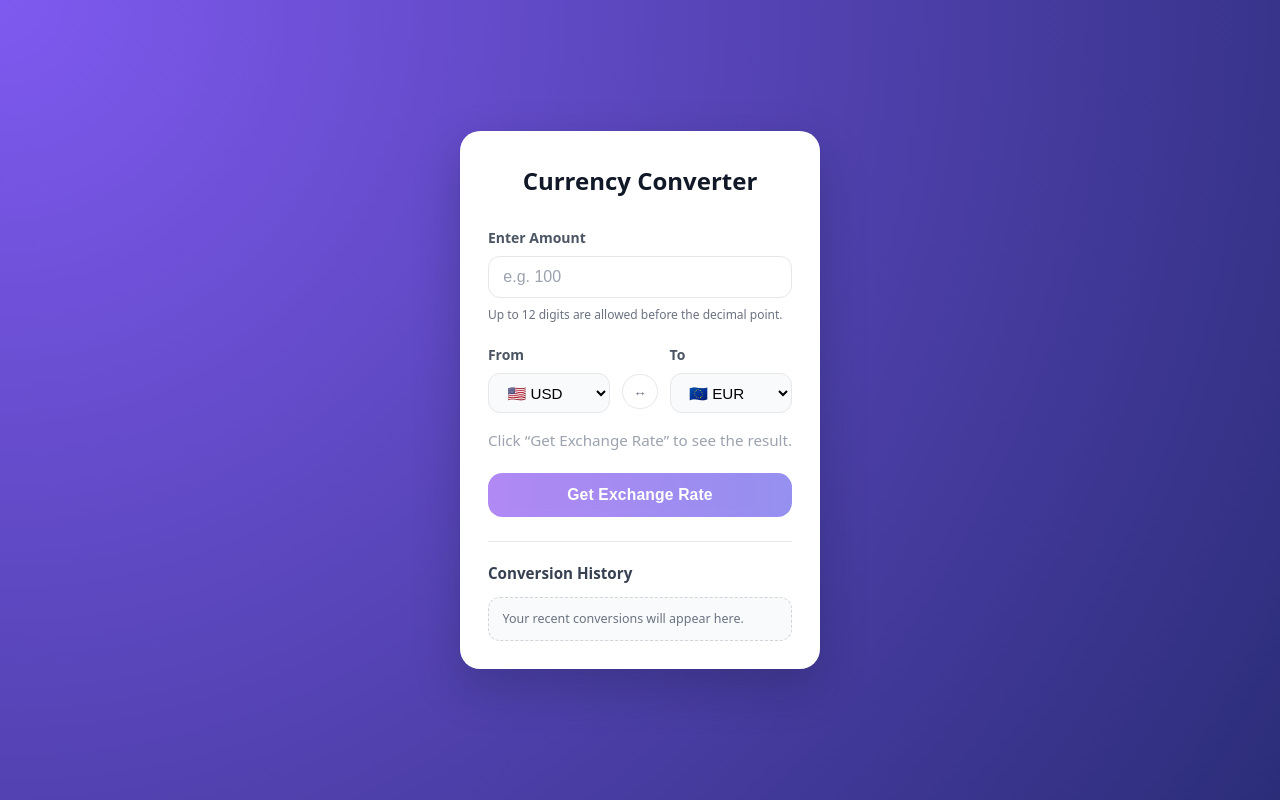
Test case: CurrencyConverter › adds successful conversions to history
Type "25" into the number field labelled "Enter Amount". click: (640, 277)
box: [488,256,792,298]
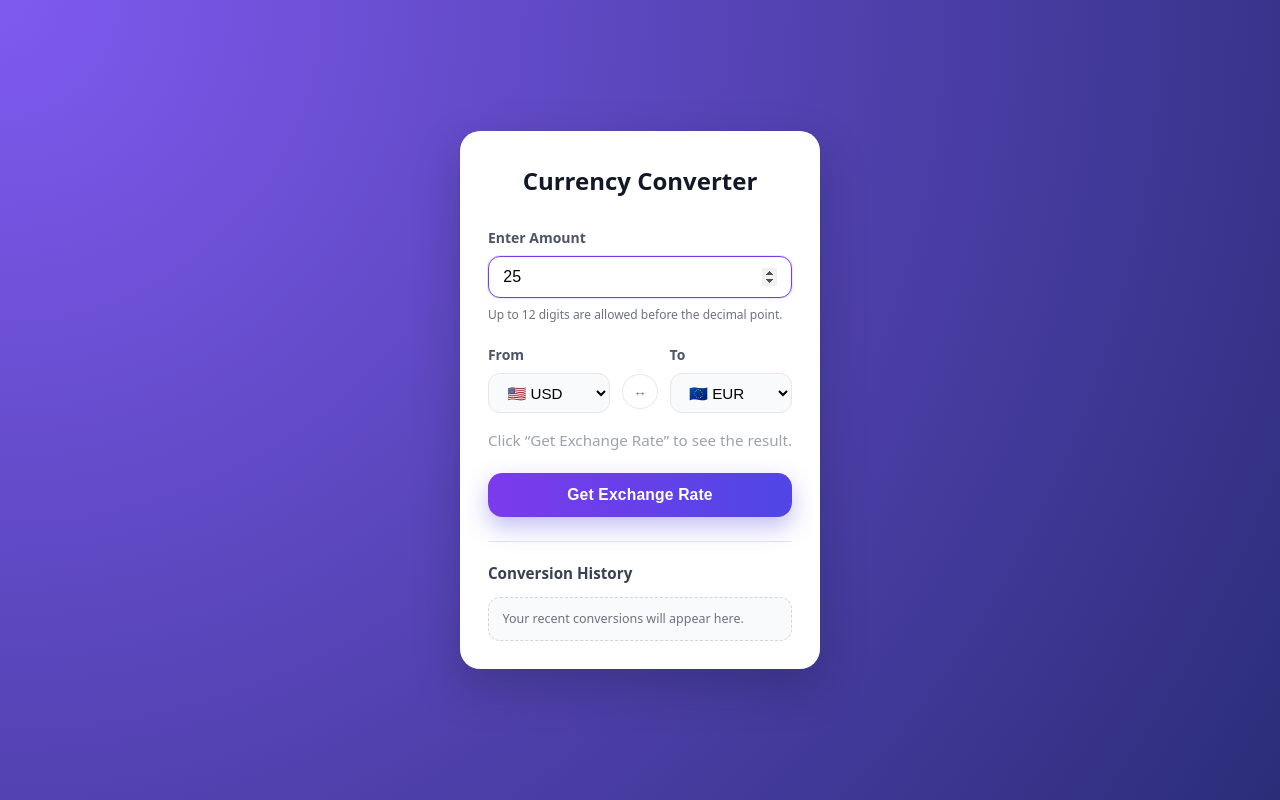
Click the button "Get Exchange Rate". click: click(640, 495)
box: [488,473,792,517]
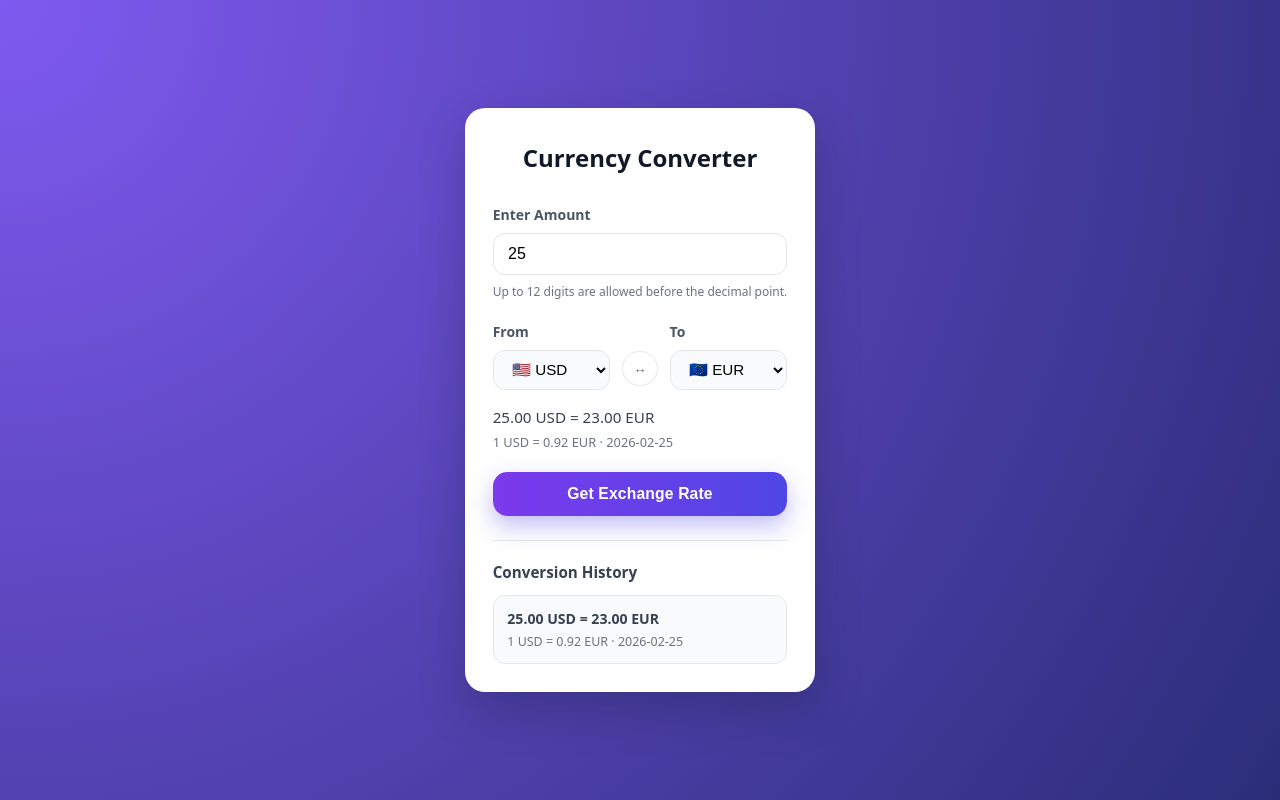
Expected: the text "25.00 USD = 23.00 EUR" below "Conversion History" is shown, [507,610,659,628]
Expected: the text "1 USD = 0.92 EUR · 2026-02-25" below "Conversion History" is shown, [507,633,683,650]
